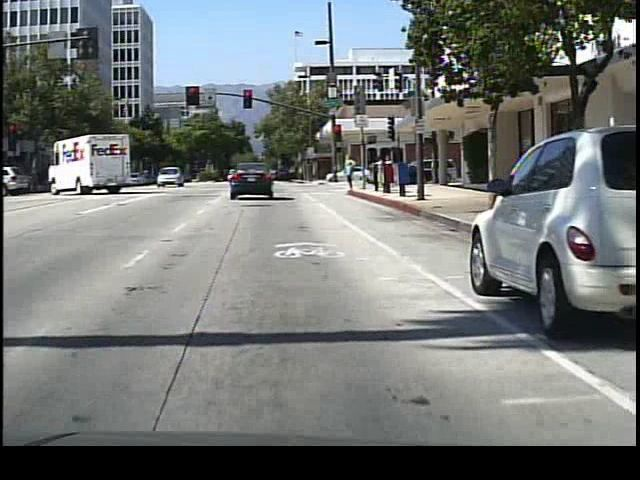person: (342, 151, 363, 196)
